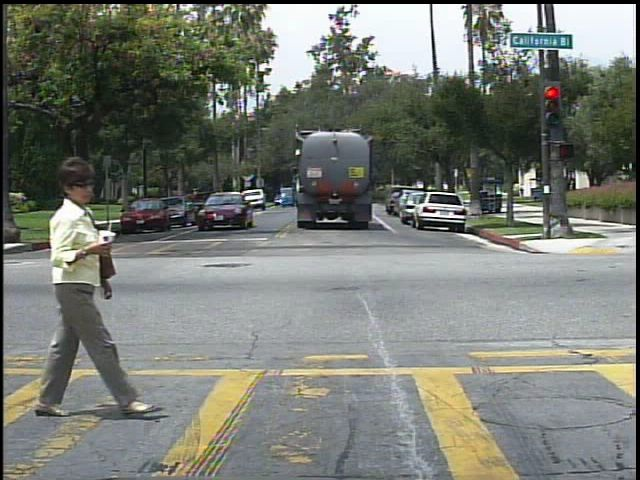person: (30, 150, 116, 423), (564, 172, 582, 204), (517, 180, 530, 200)
